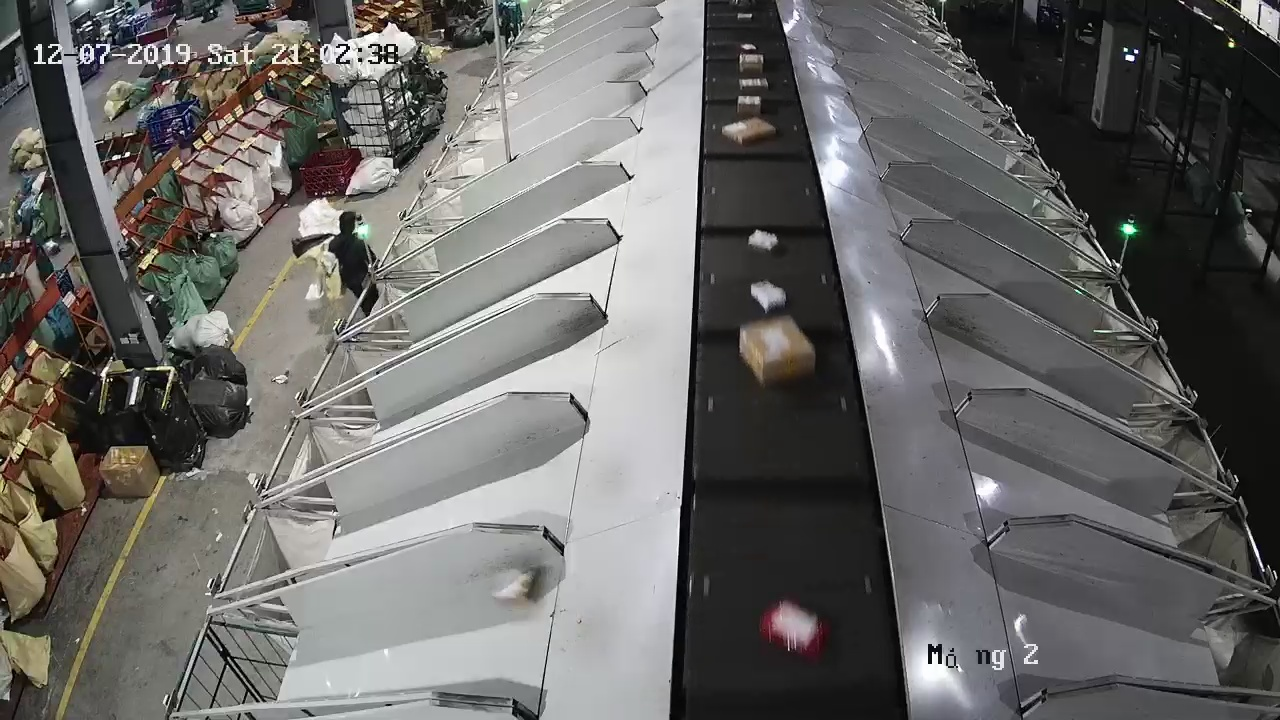parcel: (488, 565, 541, 610)
